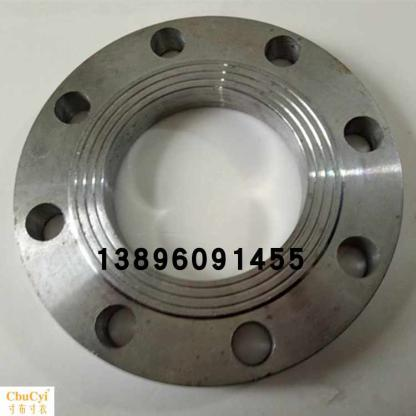FOD: (9, 11, 409, 393)
